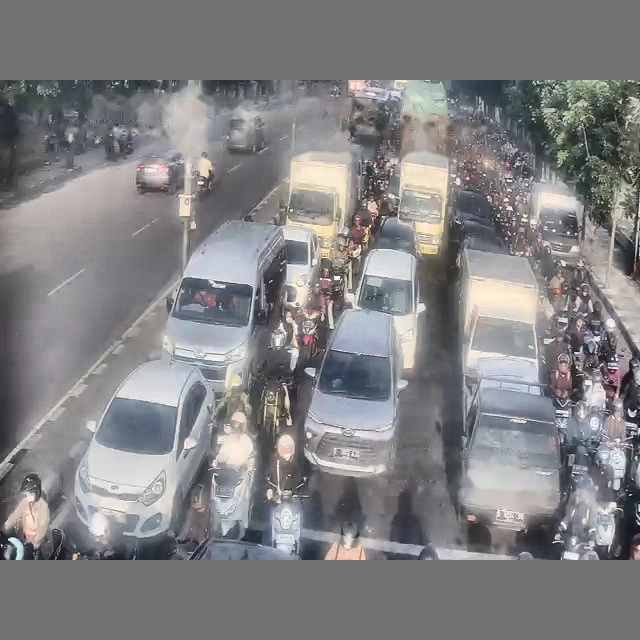Mobil: (74, 360, 214, 538), (304, 309, 407, 476), (460, 378, 561, 531), (354, 249, 424, 369), (282, 225, 319, 309), (450, 219, 507, 266), (188, 539, 296, 559), (136, 151, 184, 193), (371, 216, 418, 258), (456, 235, 509, 267), (226, 114, 265, 152), (455, 190, 489, 220)
Motor: (209, 466, 253, 538)
Truk: (459, 249, 539, 392), (284, 151, 361, 256), (398, 151, 448, 255), (529, 182, 583, 262)
